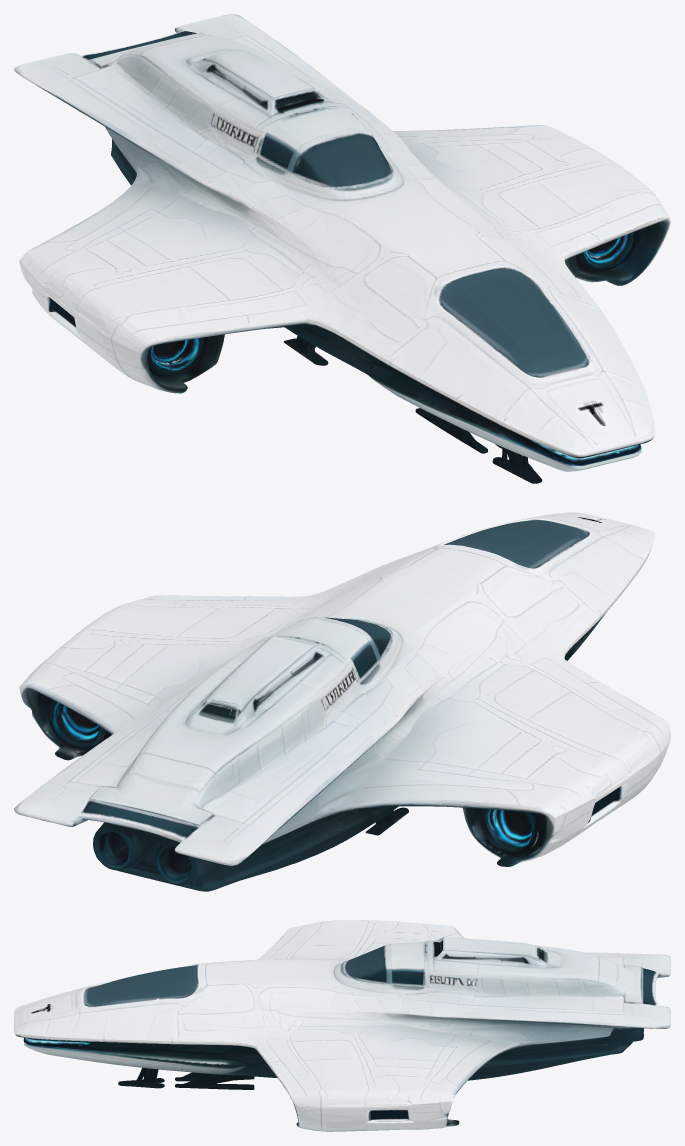
File: tesla-spaceship.glb
The picture shows the model from 3 angles, top to bottom: view 1: azimuth 30°, elevation 25°; view 2: azimuth 150°, elevation 25°; view 3: azimuth 270°, elevation 25°; orthographic projection. The views are drawn at different scales.
Size of the model in its own units: 0.7572 by 0.2757 by 1.16.
1 material, 1 textured.
